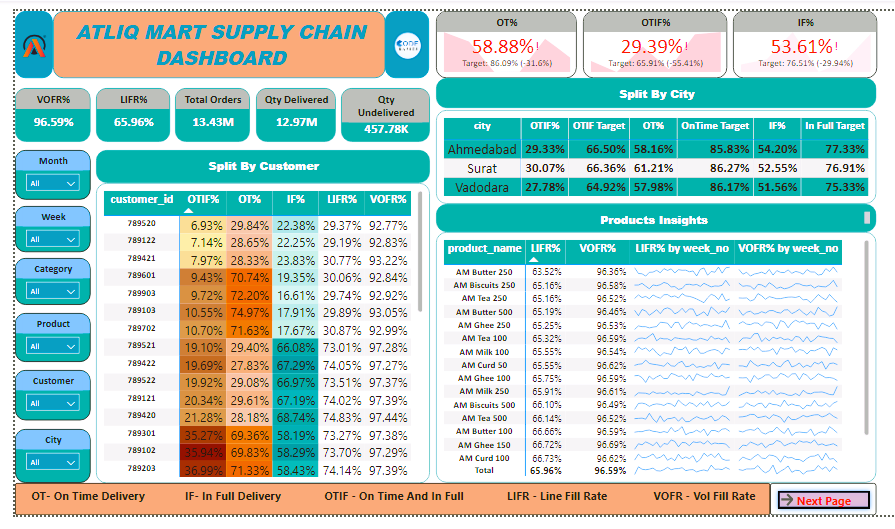

Layout of this report page (visuals, bound fields, positions):
{"tool":"powerbi","page":{"name":"Page 1","canvas":[1280,720],"ordinal":0},"visuals":[{"type":"kpi","title":"OT% ","fields":{"Indicator":["Key_measures.OT%"],"Goal":["Key_measures.On Time Target"],"TrendLine":["dim_date.mmm_yy"]},"box":[602,0,201,96],"z":0},{"type":"kpi","title":"IF%","fields":{"TrendLine":["dim_date.mmm_yy"],"Indicator":["Key_measures.IF%"],"Goal":["Key_measures.In Full Target"]},"box":[1025,0,206,96],"z":1000},{"type":"kpi","title":"OTIF% ","fields":{"TrendLine":["dim_date.mmm_yy"],"Goal":["Key_measures.OnTime Infull Target"],"Indicator":["Key_measures.OTIF%"]},"box":[812,0,206,96],"z":2000},{"type":"pivotTable","fields":{"Rows":["dim_customers.city"],"Values":["Key_measures.OTIF%","Key_measures.OnTime Infull Target","Key_measures.OT%","Key_measures.On Time Target","Key_measures.IF%","Key_measures.In Full Target"]},"box":[602,142,629,134],"z":3000},{"type":"card","title":"LIFR%","fields":{"Values":["Key_measures.LIFR%"]},"box":[115,110,106,77],"z":4000},{"type":"card","title":"VOFR%","fields":{"Values":["Key_measures.VOFR%"]},"box":[0,110,108,77],"z":5000},{"type":"pivotTable","fields":{"Rows":["dim_customers.customer_id"],"Values":["Key_measures.OTIF%","Key_measures.OT%","Key_measures.IF%","Key_measures.LIFR%","Key_measures.VOFR%"]},"box":[115,245,477,429],"z":6000},{"type":"image","box":[0,0,54,96],"z":7000},{"type":"textbox","box":[54,0,475,96],"z":8000},{"type":"image","box":[529,0,63,96],"z":9000},{"type":"slicer","title":"Category","fields":{"Values":["dim_products.category"]},"box":[0,353,108,67],"z":10000},{"type":"slicer","title":"Month","fields":{"Values":["dim_date.mmm_yy"]},"box":[0,198,108,71],"z":11000},{"type":"textbox","box":[602,96,629,43],"z":12000},{"type":"textbox","box":[115,198,477,47],"z":13000},{"type":"pivotTable","fields":{"Rows":["dim_products.product_name"],"Values":["Key_measures.LIFR%","Key_measures.VOFR%","SparklineData(Key_measures.LIFR%_[dim_date.week_no])","SparklineData(Key_measures.VOFR%_[dim_date.week_no])"]},"box":[602,316,629,358],"z":14000},{"type":"textbox","box":[602,276,629,40],"z":15000},{"type":"card","title":"Total Orders","fields":{"Values":["Key_measures.Total Order Qty"]},"box":[228,110,107,77],"z":16000},{"type":"card","title":"Qty Delivered","fields":{"Values":["Key_measures.Total Qty Delivered"]},"box":[344,110,114,77],"z":17000},{"type":"card","title":"Qty Undelivered","fields":{"Values":["Key_measures.Total Undelivered Qty"]},"box":[465,110,127,77],"z":18000},{"type":"slicer","title":"Week","fields":{"Values":["dim_date.week_no"]},"box":[0,279,108,66],"z":19000},{"type":"slicer","title":"City","fields":{"Values":["dim_customers.city"]},"box":[0,597,108,77],"z":20000},{"type":"slicer","title":"Customer ","fields":{"Values":["dim_customers.customer_name"]},"box":[0,513,108,72],"z":21000},{"type":"slicer","title":"Product","fields":{"Values":["dim_products.product_name"]},"box":[0,432,108,70],"z":22000},{"type":"textbox","box":[0,674,1079,46],"z":23000},{"type":"actionButton","box":[1079,674,152,46],"z":24000}]}

Visuals, with their boxes on the page's 1280x720 design canvas (x1, y1, x2, y2). These are canvas units, not pixel positions in the 895x529 screenshot, which may show the page scaled, cropped or inside an application window:
"OT% " kpi: 602 0 803 96
"IF%" kpi: 1025 0 1231 96
"OTIF% " kpi: 812 0 1018 96
pivotTable - dim_customers.city x Key_measures.OTIF%: 602 142 1231 276
"LIFR%" card: 115 110 221 187
"VOFR%" card: 0 110 108 187
pivotTable - dim_customers.customer_id x Key_measures.OTIF%: 115 245 592 674
image: 0 0 54 96
textbox: 54 0 529 96
image: 529 0 592 96
"Category" slicer: 0 353 108 420
"Month" slicer: 0 198 108 269
textbox: 602 96 1231 139
textbox: 115 198 592 245
pivotTable - dim_products.product_name x Key_measures.LIFR%: 602 316 1231 674
textbox: 602 276 1231 316
"Total Orders" card: 228 110 335 187
"Qty Delivered" card: 344 110 458 187
"Qty Undelivered" card: 465 110 592 187
"Week" slicer: 0 279 108 345
"City" slicer: 0 597 108 674
"Customer " slicer: 0 513 108 585
"Product" slicer: 0 432 108 502
textbox: 0 674 1079 720
actionButton: 1079 674 1231 720
